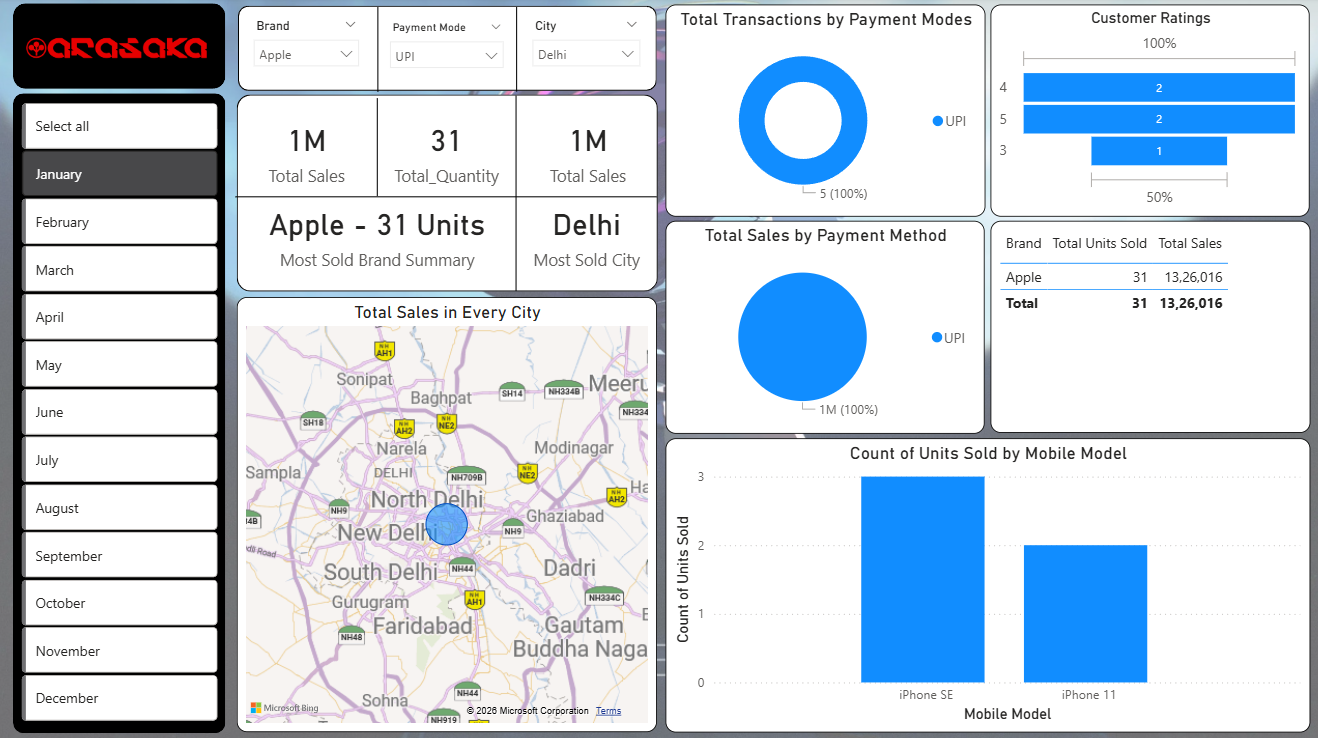

This screenshot's page, from the dashboard's own definition file:
{"tool":"powerbi","page":{"name":"Page 1","canvas":[1280,720],"ordinal":0},"visuals":[{"type":"group","id":"g1","title":"Group 1","box":[0,0,228.8,98.8],"z":0},{"type":"shape","box":[14.7,6.4,205.1,82.7],"z":0,"group":"g1"},{"type":"shape","box":[231.6,8.4,404.2,82],"z":0,"group":"g5"},{"type":"shape","box":[14.5,92.9,205.1,617.7],"z":0,"group":"g4"},{"type":"shape","box":[230.3,94.7,406.4,190.2],"z":0,"group":"g2"},{"type":"shape","box":[229.2,97.7,406.4,190.2],"z":0,"group":"g3"},{"type":"image","box":[0,0,228.8,98.8],"z":1000,"group":"g1"},{"type":"group","id":"g2","title":"Group 3","box":[229.2,92.9,406.6,194.2],"z":1000},{"type":"shape","box":[230.3,97.7,271.3,94.7],"z":1000,"group":"g3"},{"type":"shape","box":[365,9.3,270,81.9],"z":1500,"group":"g5"},{"type":"shape","box":[364.3,95.7,271.3,188.5],"z":2000,"group":"g3"},{"type":"advancedSlicerVisual","fields":{"Values":["Mobile_Sales_Data.Date.Variation.Date Hierarchy.Month"]},"box":[18.1,100.1,199.1,611.7],"z":2000,"group":"g4"},{"type":"map","title":"Total Sales in Every City","fields":{"Category":["Mobile_Sales_Data.City"],"Size":["Mobile_Sales_Data.Total Sales"]},"box":[230,290,405.6,420],"z":2000},{"type":"card","fields":{"Values":["Mobile_Sales_Data.Total_Quantity"]},"box":[365.4,92.9,135.1,109.7],"z":3000,"group":"g2"},{"type":"clusteredColumnChart","fields":{"Category":["Mobile_Sales_Data.Mobile Model"],"Y":["CountNonNull(Mobile_Sales_Data.Units Sold)"]},"box":[644.2,426.3,622.1,283.7],"z":3000},{"type":"card","fields":{"Values":["Mobile_Sales_Data.Most Sold Brand Summary"]},"box":[230.3,173.4,271.3,109.7],"z":4000,"group":"g2"},{"type":"pieChart","fields":{"Category":["Mobile_Sales_Data.Payment Method"],"Y":["Mobile_Sales_Data.Total Sales"]},"box":[644.2,215.8,307.9,205.3],"z":4000},{"type":"donutChart","title":"Total Transactions by Payment Modes","fields":{"Category":["Mobile_Sales_Data.Payment Method"],"Y":["Mobile_Sales_Data.Transactions"]},"box":[644,7,309,205],"z":5000},{"type":"card","fields":{"Values":["Mobile_Sales_Data.Total_Sales"]},"box":[501.6,92.9,135.1,109.7],"z":5000,"group":"g2"},{"type":"funnel","title":"Customer Ratings","fields":{"Category":["Mobile_Sales_Data.Customer Ratings"],"Y":["CountNonNull(Mobile_Sales_Data.Customer Ratings)"]},"box":[958,7,308,205],"z":6000},{"type":"card","fields":{"Values":["Mobile_Sales_Data.Total_Sales"]},"box":[230.3,92.9,135.1,109.7],"z":6000,"group":"g2"},{"type":"group","id":"g3","title":"Group 2","box":[229.2,95.7,406.4,192.2],"z":7000,"group":"g2"},{"type":"tableEx","title":"Customer Ratings","fields":{"Values":["Mobile_Sales_Data.Brand","Mobile_Sales_Data.Total Units Sold","Mobile_Sales_Data.Total Sales"]},"box":[957.9,216,308.8,205.1],"z":7000},{"type":"group","id":"g4","title":"Group 5","box":[14.5,92.9,205.1,618.9],"z":8000},{"type":"card","fields":{"Values":["Mobile_Sales_Data.Most Sold City"]},"box":[500.5,174.3,135.1,109.7],"z":8000,"group":"g2"},{"type":"group","id":"g5","title":"Group 4","box":[231.2,8.4,404.5,82.8],"z":9000},{"type":"slicer","fields":{"Values":["Mobile_Sales_Data.City"]},"box":[505.5,15.7,124.3,65.1],"z":10000},{"type":"slicer","fields":{"Values":["Mobile_Sales_Data.Brand"]},"box":[236.5,15.7,121.9,65.1],"z":11000},{"type":"slicer","fields":{"Values":["Mobile_Sales_Data.Payment Method"]},"box":[368,18.1,130.3,65.1],"z":12000},{"type":"shape","box":[231.2,9.3,270,81.9],"z":13000,"group":"g5"}]}

Visuals, with their boxes in screenshot pixels (x1, y1, x2, y2), scaled from the page's 1280x720 canvas onto the 1318x738 screenshot:
"Group 1" group: x1=0, y1=0, x2=236, y2=101
shape: x1=15, y1=7, x2=226, y2=91
shape: x1=238, y1=9, x2=655, y2=93
shape: x1=15, y1=95, x2=226, y2=728
shape: x1=237, y1=97, x2=656, y2=292
shape: x1=236, y1=100, x2=654, y2=295
image: x1=0, y1=0, x2=236, y2=101
"Group 3" group: x1=236, y1=95, x2=655, y2=294
shape: x1=237, y1=100, x2=516, y2=197
shape: x1=376, y1=10, x2=654, y2=93
shape: x1=375, y1=98, x2=654, y2=291
advancedSlicerVisual - Mobile_Sales_Data.Date.Variation.Date Hierarchy.Month: x1=19, y1=103, x2=224, y2=730
"Total Sales in Every City" map: x1=237, y1=297, x2=654, y2=728
card - Mobile_Sales_Data.Total_Quantity: x1=376, y1=95, x2=515, y2=208
clusteredColumnChart - Mobile_Sales_Data.Mobile Model x CountNonNull(Mobile_Sales_Data.Units Sold): x1=663, y1=437, x2=1304, y2=728
card - Mobile_Sales_Data.Most Sold Brand Summary: x1=237, y1=178, x2=516, y2=290
pieChart - Mobile_Sales_Data.Payment Method x Mobile_Sales_Data.Total Sales: x1=663, y1=221, x2=980, y2=432
"Total Transactions by Payment Modes" donutChart: x1=663, y1=7, x2=981, y2=217
card - Mobile_Sales_Data.Total_Sales: x1=516, y1=95, x2=656, y2=208
"Customer Ratings" funnel: x1=986, y1=7, x2=1304, y2=217
card - Mobile_Sales_Data.Total_Sales: x1=237, y1=95, x2=376, y2=208
"Group 2" group: x1=236, y1=98, x2=654, y2=295
"Customer Ratings" tableEx: x1=986, y1=221, x2=1304, y2=432
"Group 5" group: x1=15, y1=95, x2=226, y2=730
card - Mobile_Sales_Data.Most Sold City: x1=515, y1=179, x2=654, y2=291
"Group 4" group: x1=238, y1=9, x2=655, y2=93
slicer - Mobile_Sales_Data.City: x1=521, y1=16, x2=648, y2=83
slicer - Mobile_Sales_Data.Brand: x1=244, y1=16, x2=369, y2=83
slicer - Mobile_Sales_Data.Payment Method: x1=379, y1=19, x2=513, y2=85
shape: x1=238, y1=10, x2=516, y2=93
